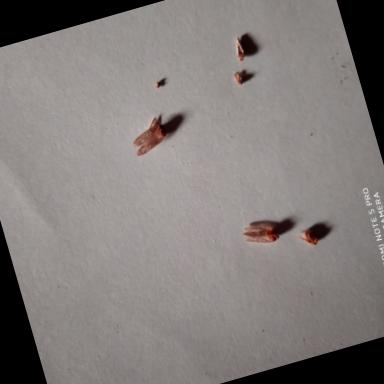pbw: (124, 111, 174, 162), (238, 214, 284, 256), (292, 220, 322, 252)
